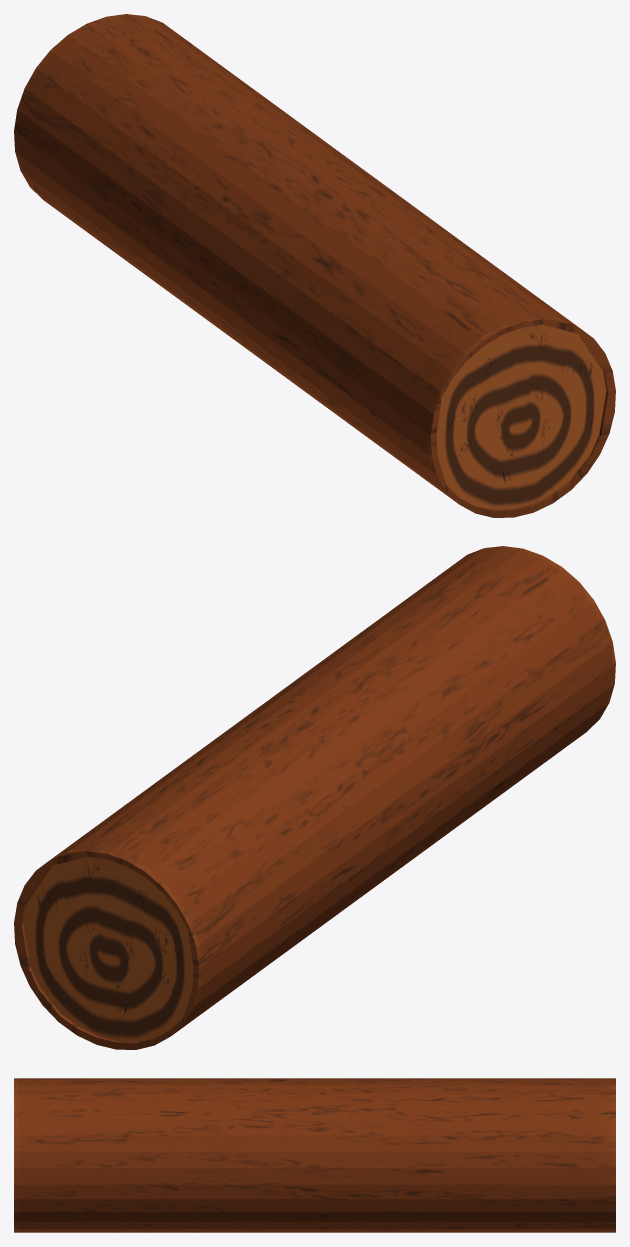
The model's file is Log.glb.
3 views of the same model, one above another, from view 1: azimuth 30°, elevation 25°; view 2: azimuth 150°, elevation 25°; view 3: azimuth 270°, elevation 25° (orthographic). The views are drawn at different scales.
Parts seen in each view (by area): view 1: Cylinder; view 2: Cylinder; view 3: Cylinder.
Part boxes in pixels (box(x1,y1,x2,y2)): Cylinder: box(14, 14, 615, 517); Cylinder: box(14, 546, 615, 1049); Cylinder: box(14, 1078, 615, 1232).
Bounding box in the file's own units: 0.665 × 0.664 × 2.59.
1 material, 1 textured.
